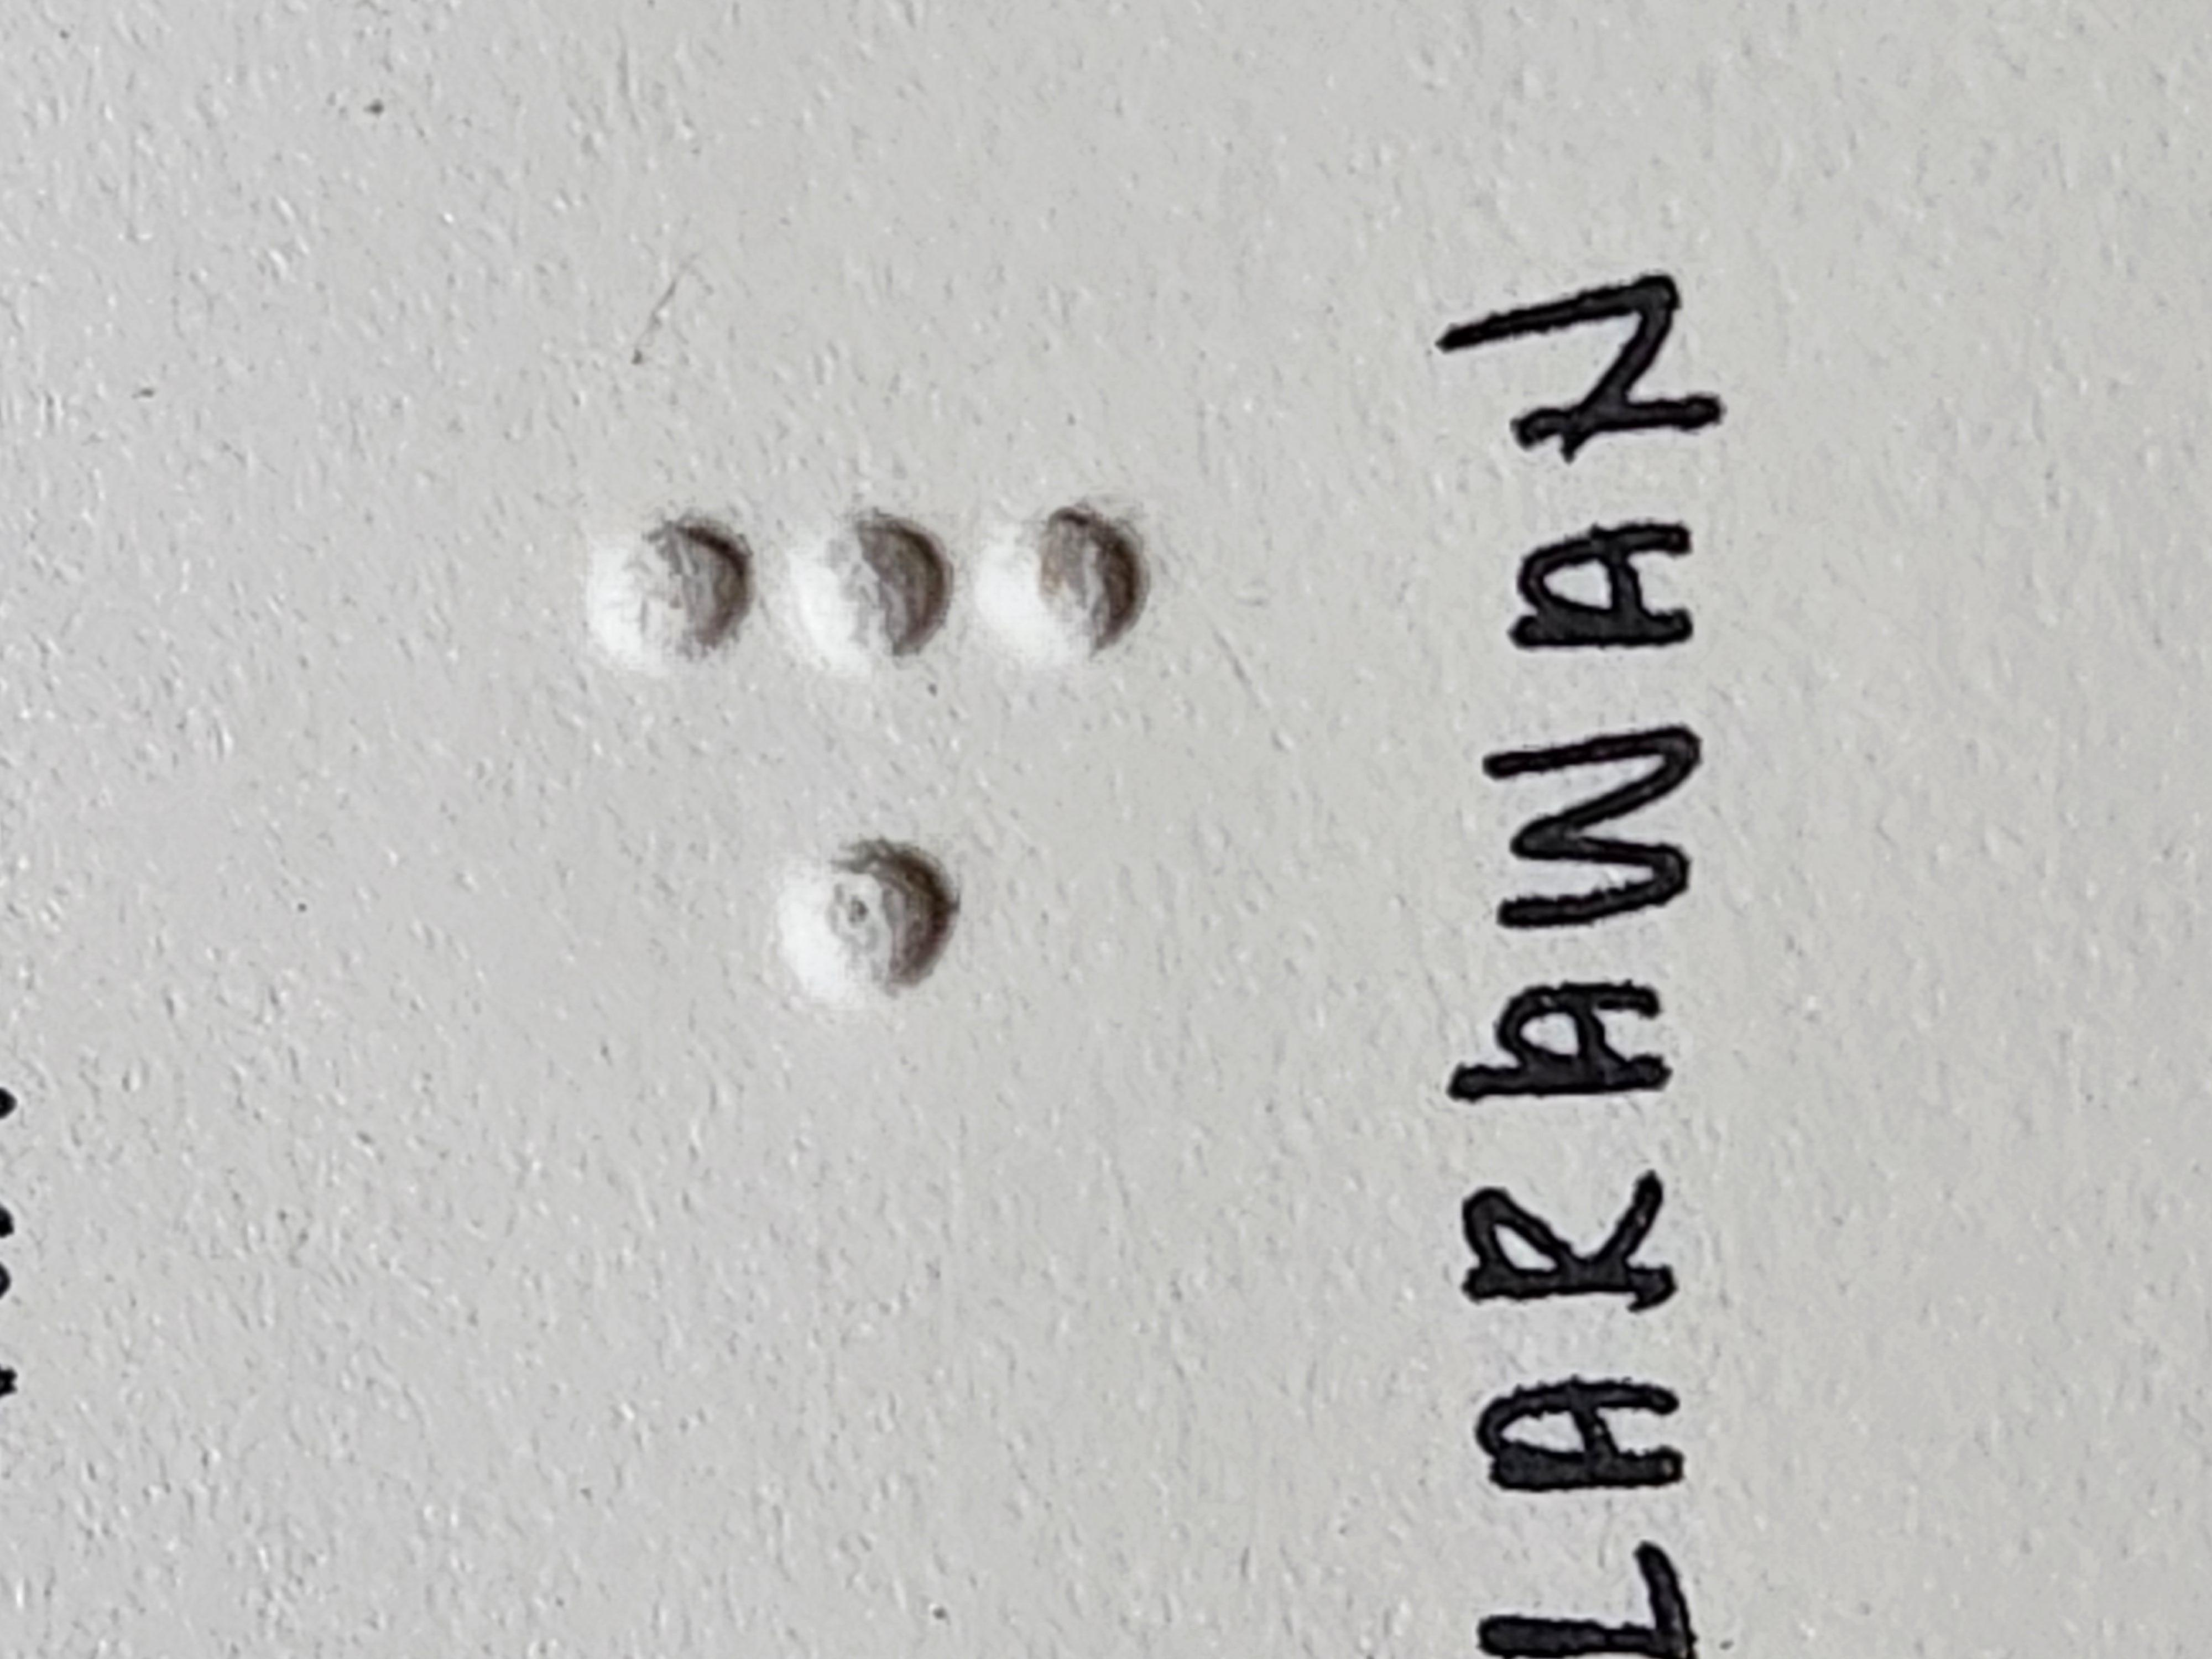dot_5: (637, 432, 1092, 863)
two_cell_alphabet_larawan: (1322, 432, 1777, 863)
